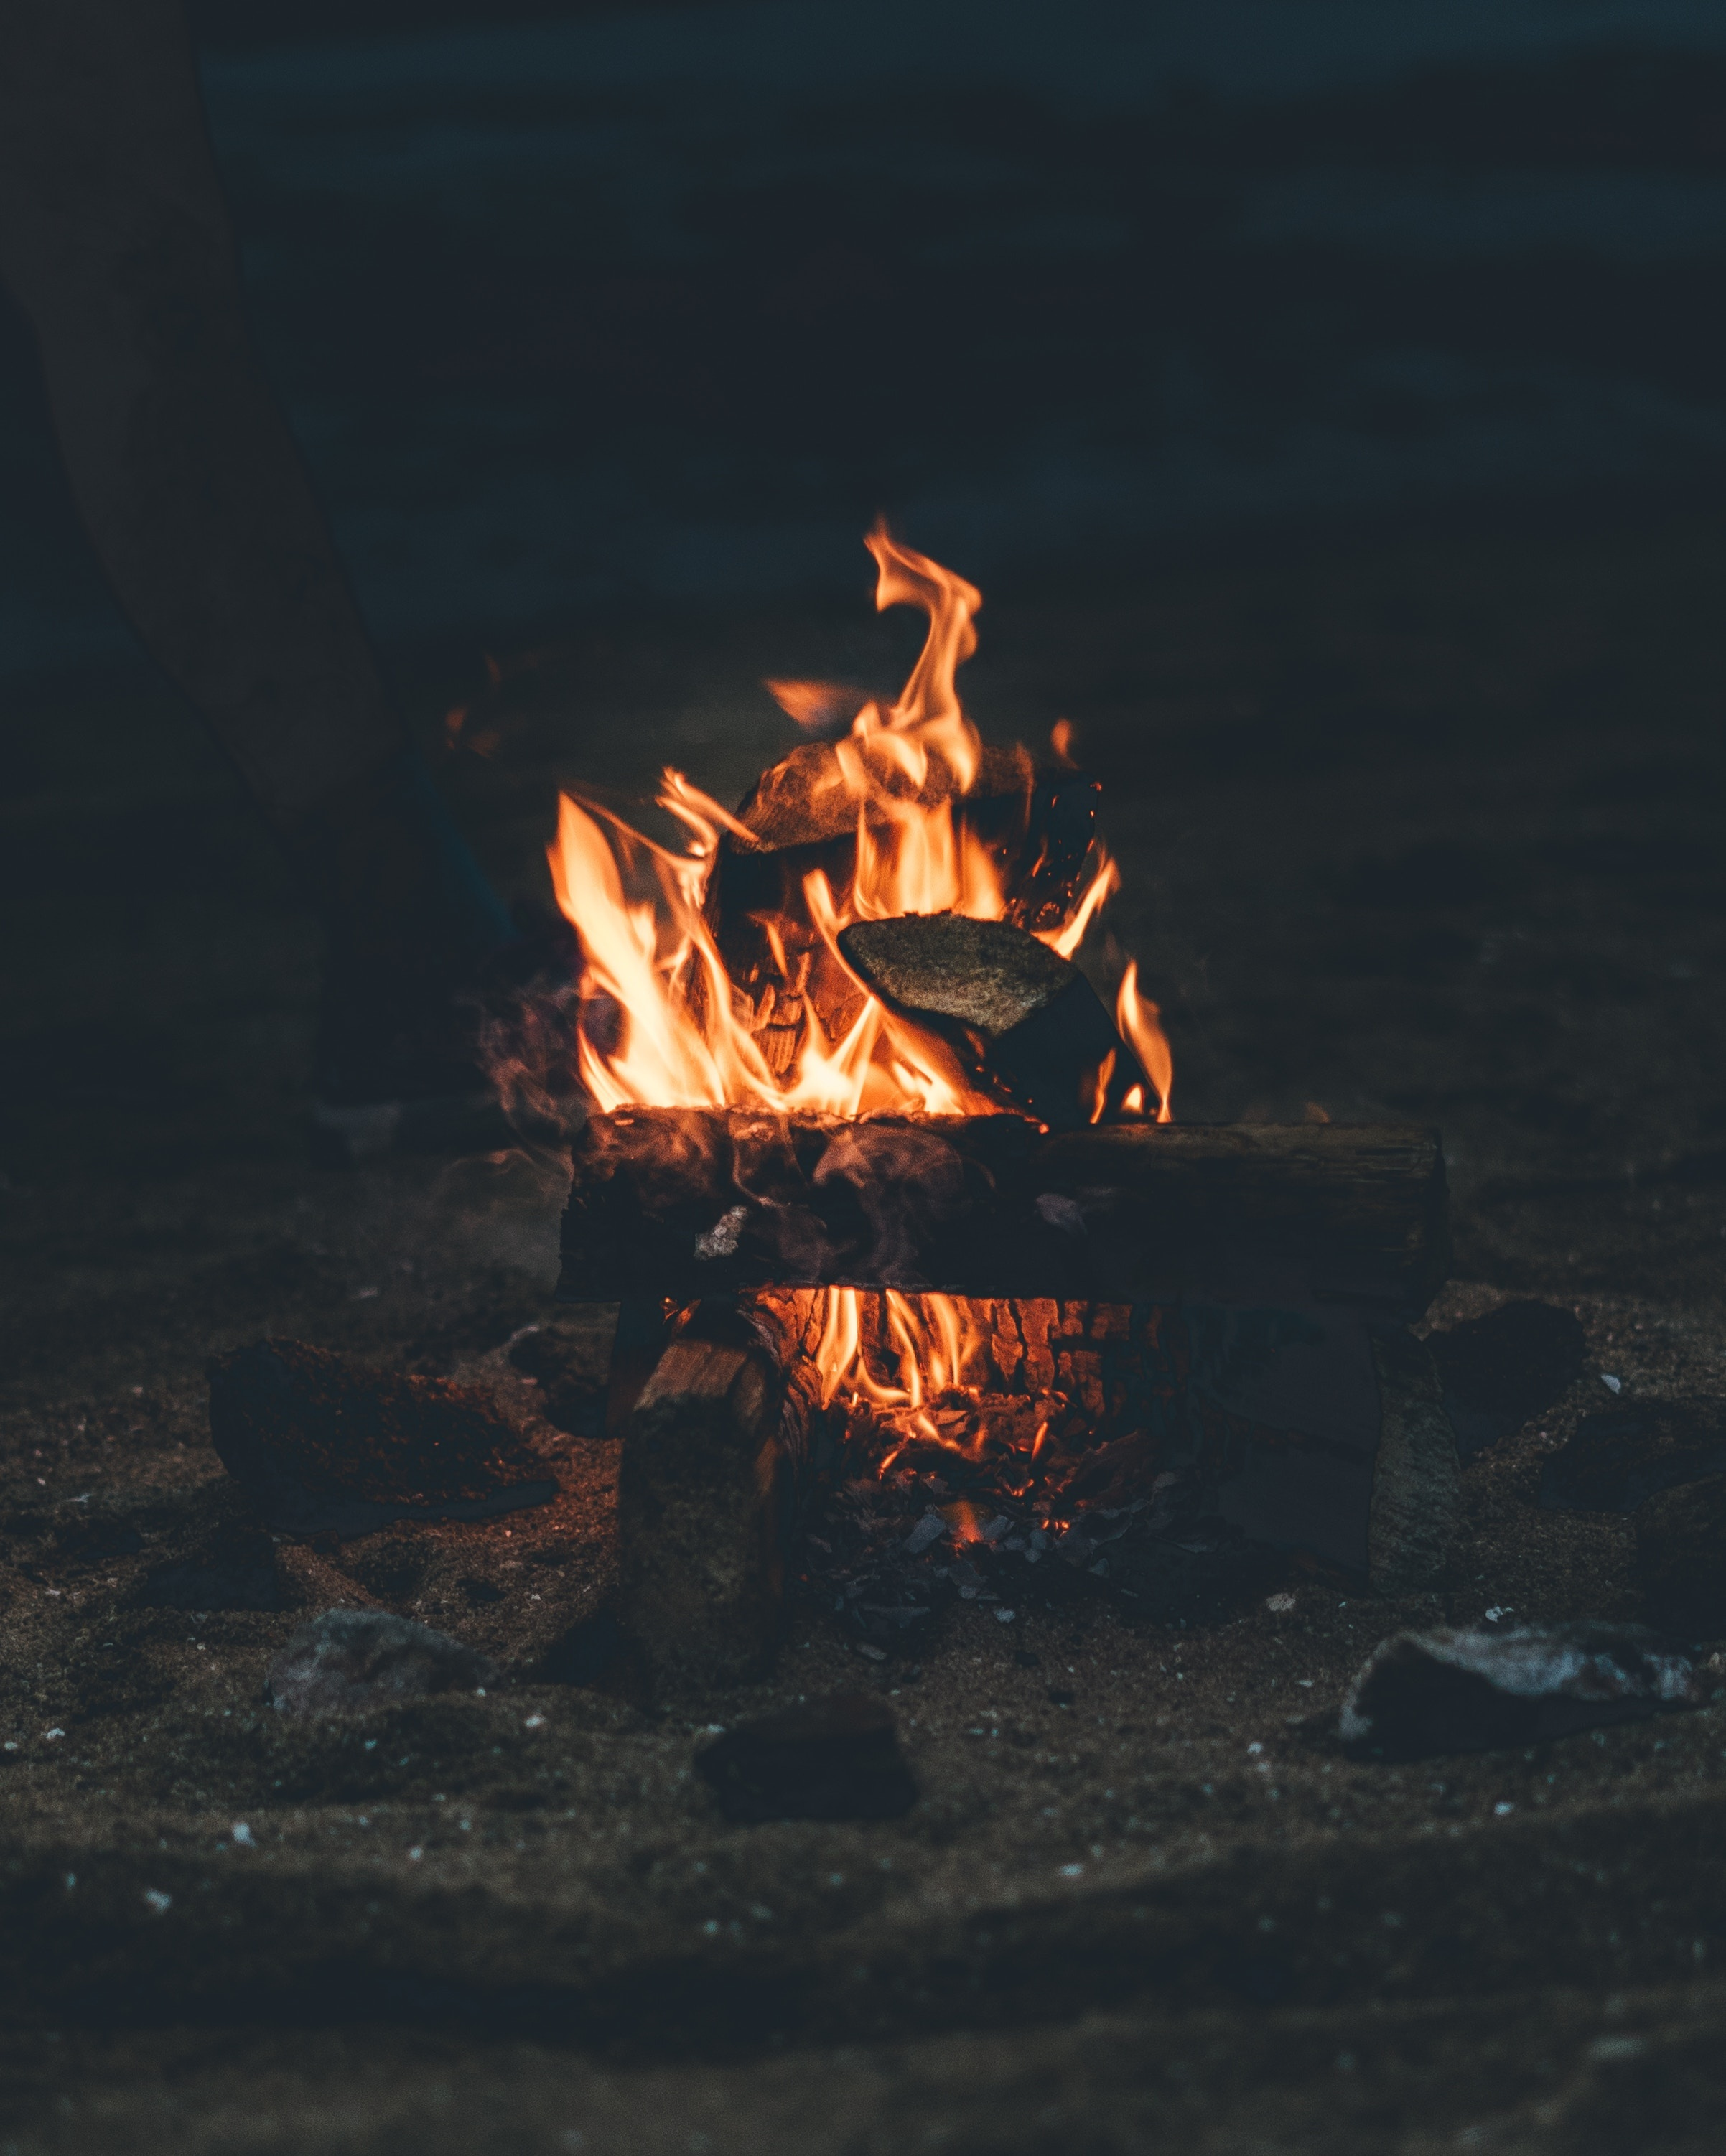fire: (541, 527, 1217, 1187)
